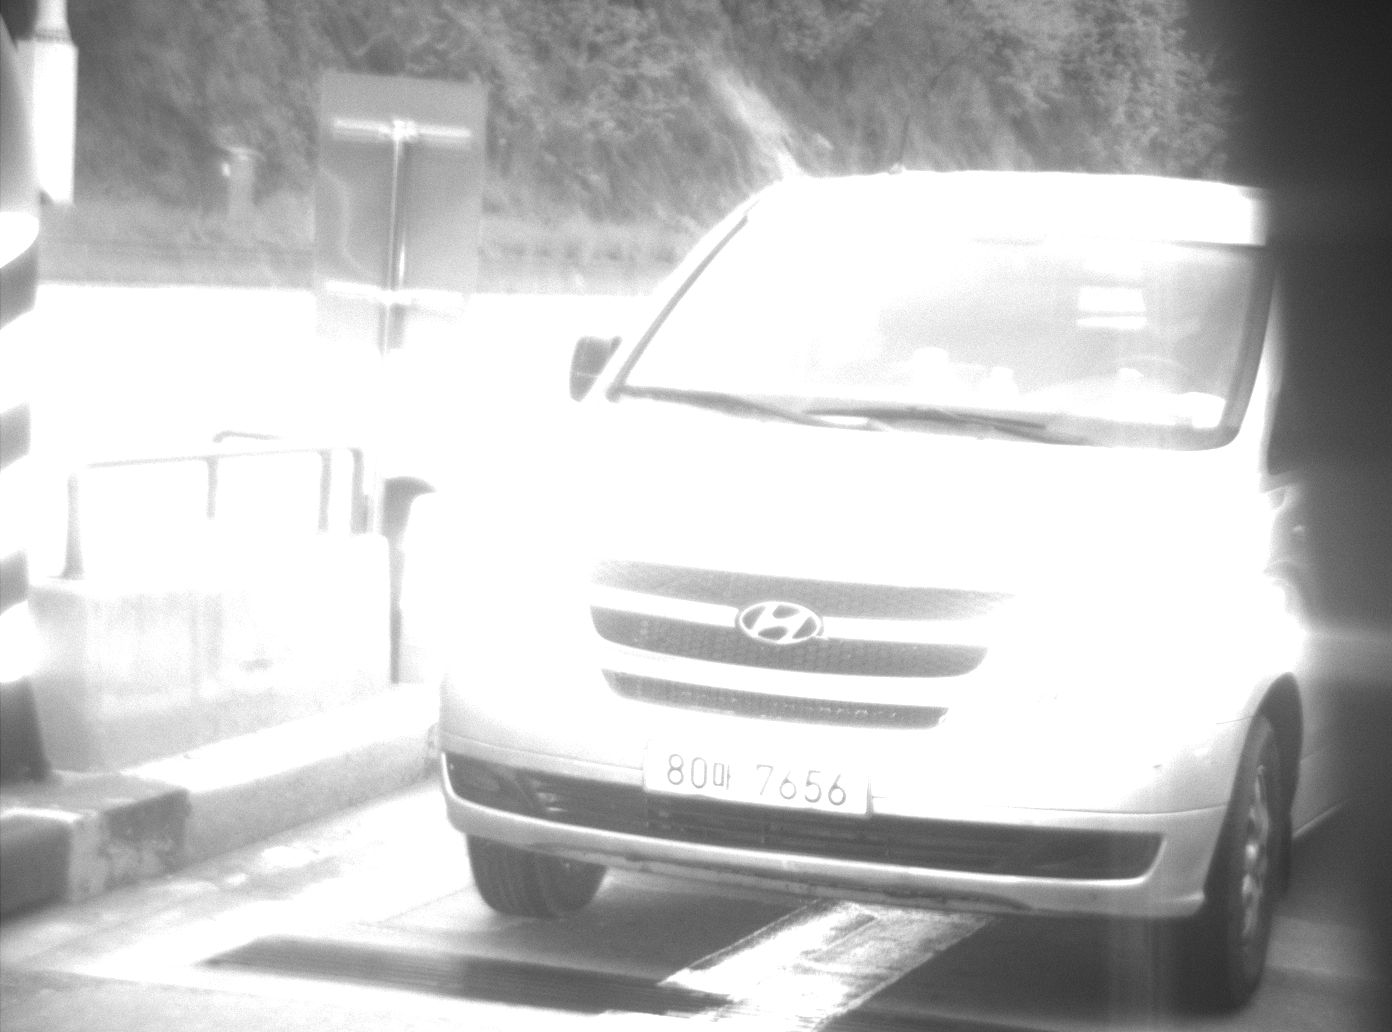car: (432, 169, 1357, 1011)
plate: (641, 740, 870, 817)
